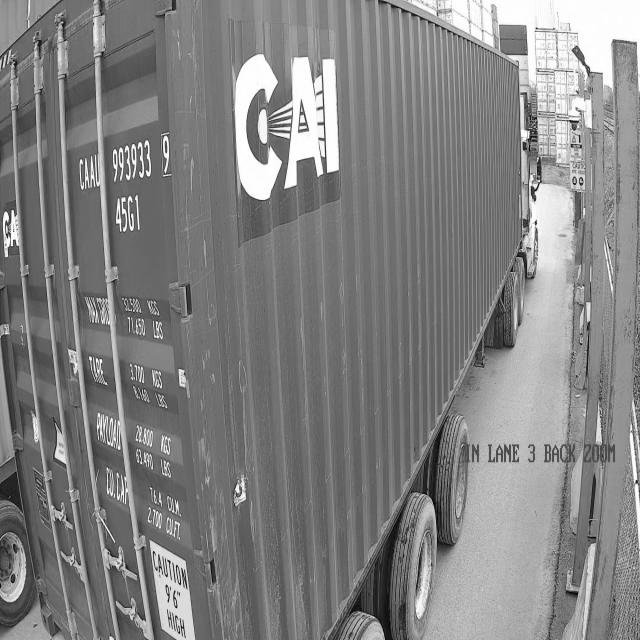container_company_logo: (0, 201, 18, 255)
container_number: (79, 139, 204, 630)
truck_with_container: (0, 0, 536, 639)
